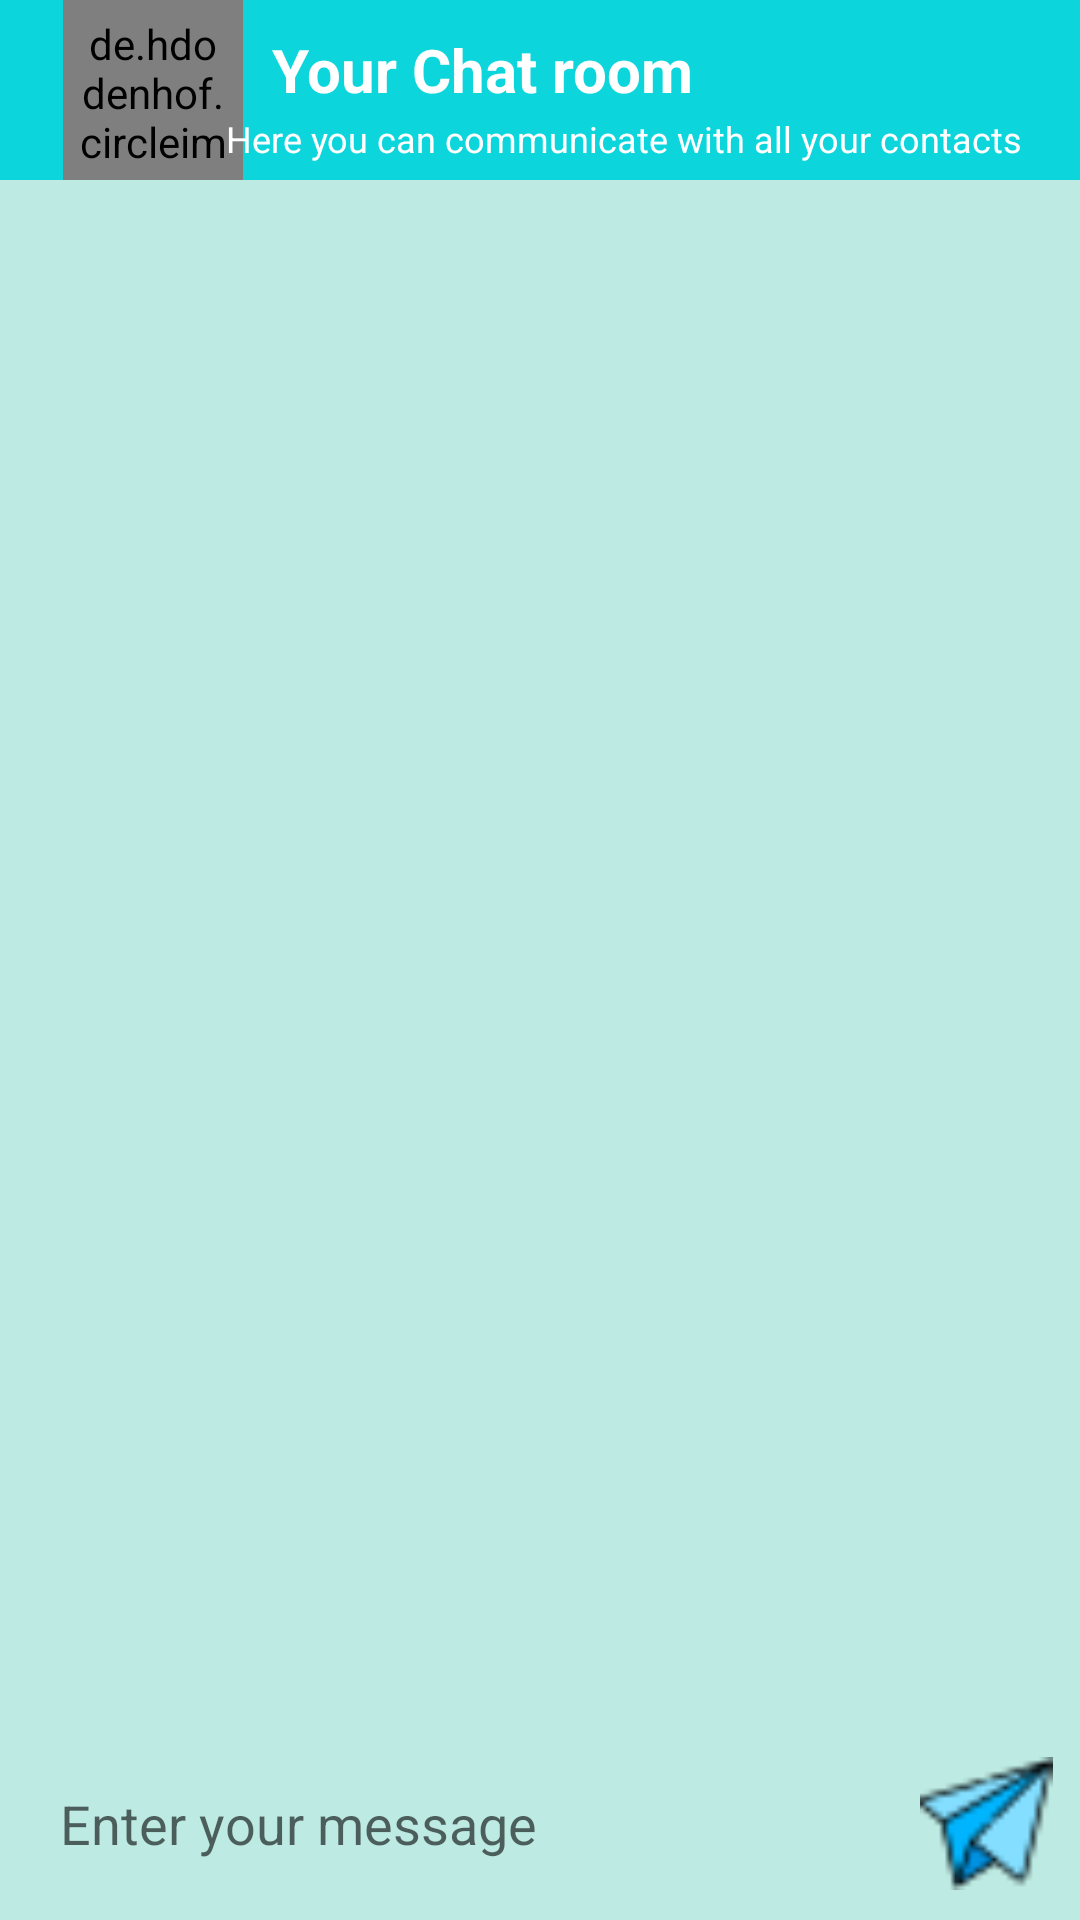

Screen size 1080*1920. Icon name, then its box in pixels as (x1, y1, x2, y2):
send: (920, 1757, 1053, 1890)
